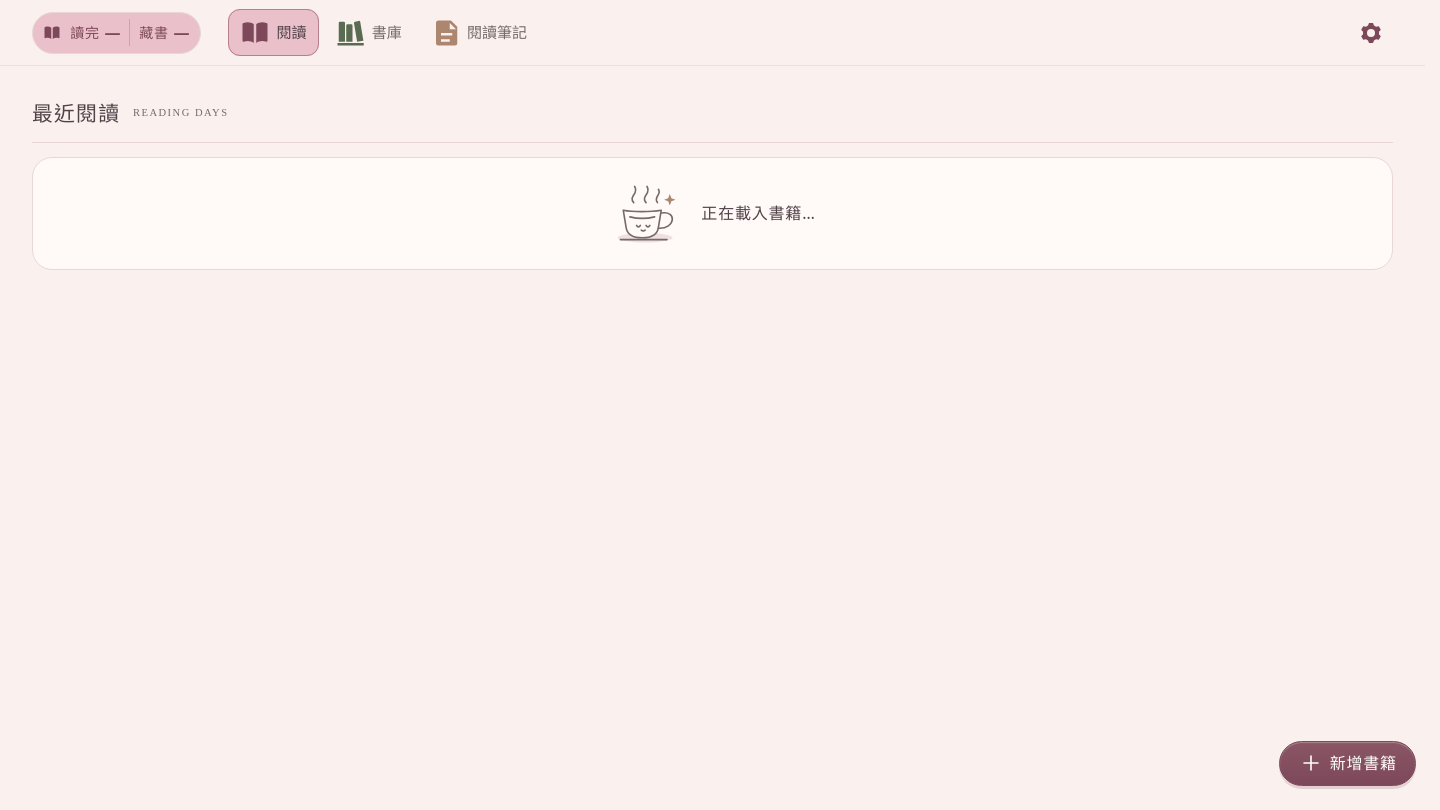
library reading entries › saves a half-star choice for an unrated completed book using valid ten-point storage
Click the button "書庫": (369, 33) [323,9,414,56]
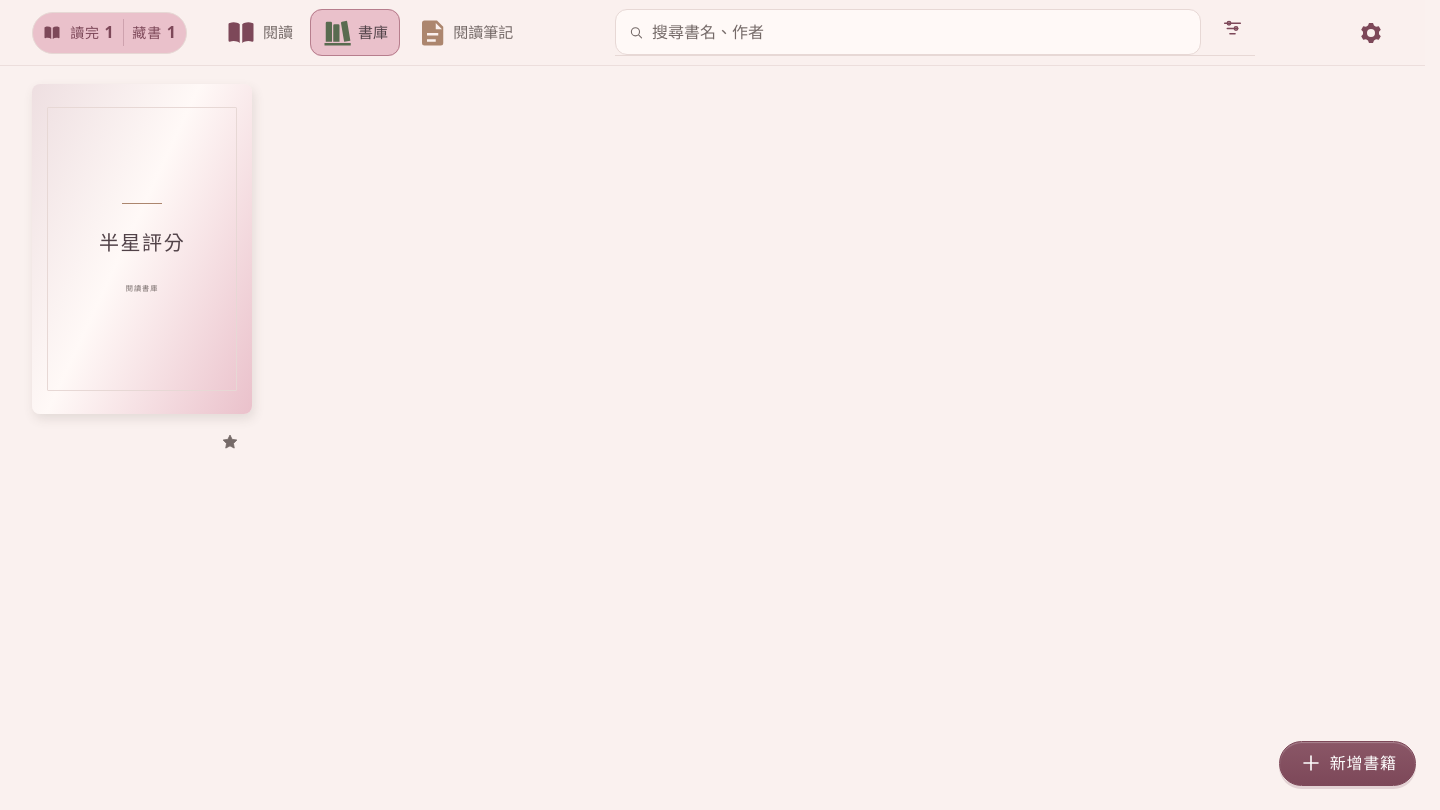
Click the button named "《半星評分》待評分": (230, 442) [208,420,252,464]
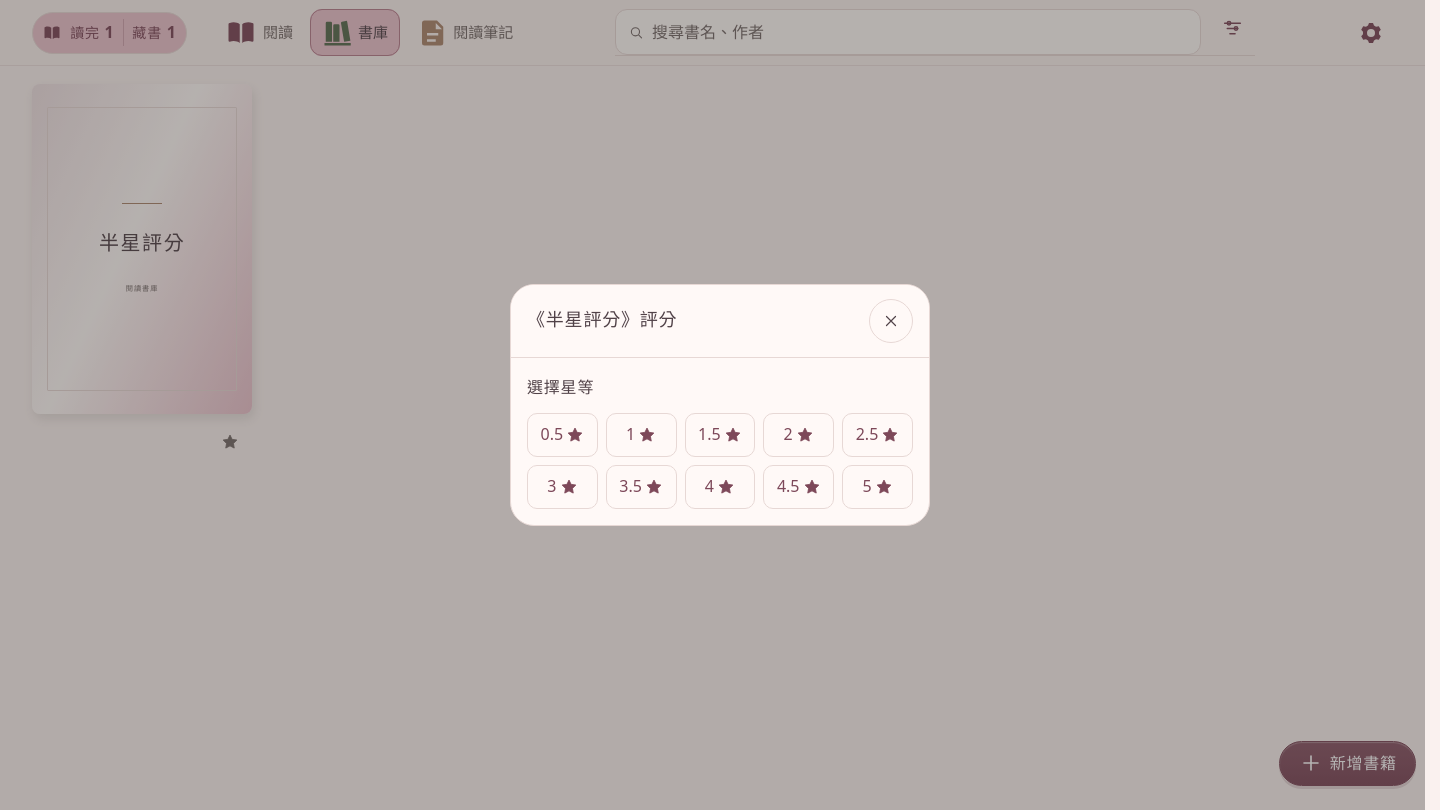
Click the button named "評為 3.5 星": (641, 487) [606,465,677,509]
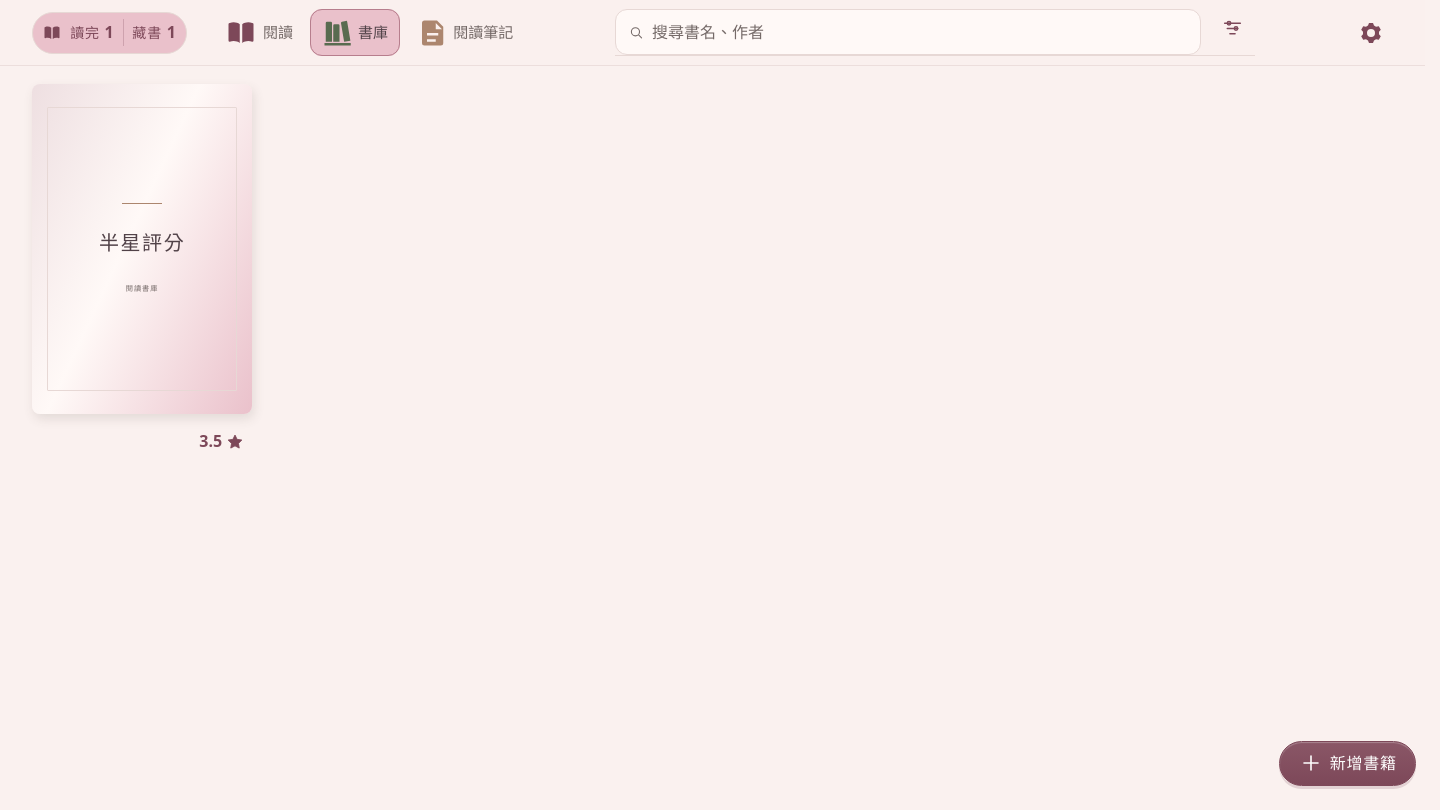
Expected: the button named "《半星評分》3.5 星，修改評分" is shown, [191,420,252,464]
Expected: the dialog is gone
